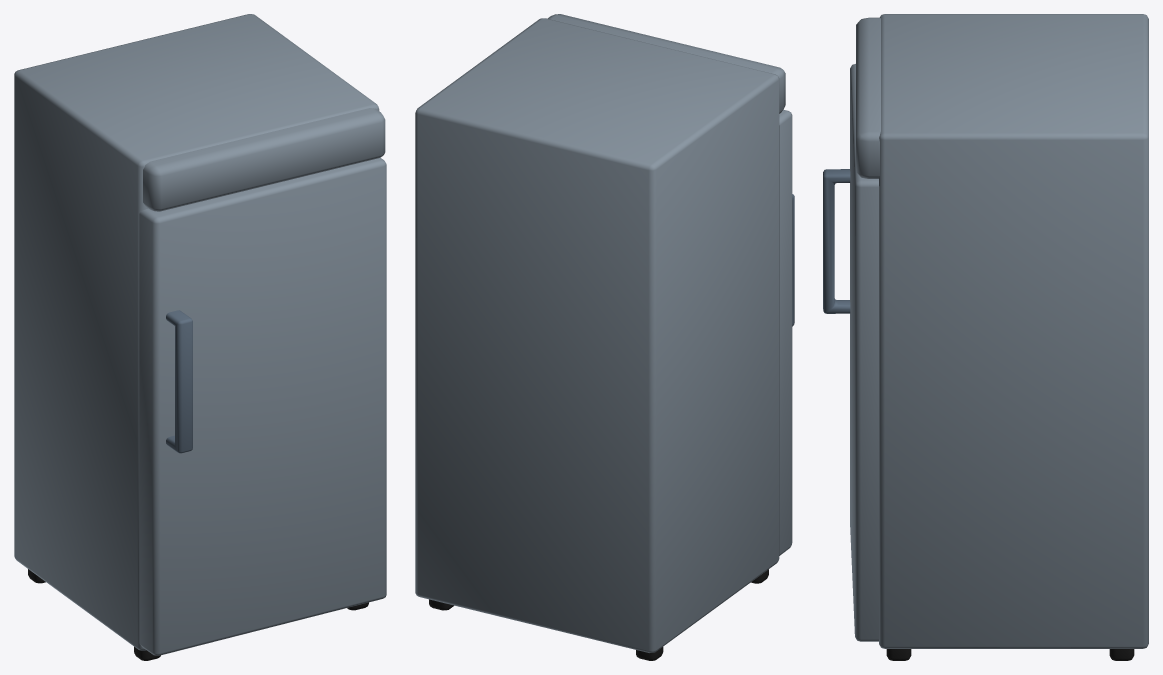
Rendered from Refrigerator-1.fbx.
The picture shows the model from 3 angles, left to right: view 1: azimuth 30°, elevation 25°; view 2: azimuth 150°, elevation 25°; view 3: azimuth 270°, elevation 25°; orthographic projection. The views are drawn at different scales.
Parts seen in each view (by area): view 1: Refrigerator-1.001, Refrigerator-1; view 2: Refrigerator-1, Refrigerator-1.001; view 3: Refrigerator-1, Refrigerator-1.001.
Part boxes in pixels (x1=…): Refrigerator-1.001: x1=139, y1=158, x2=386, y2=655; Refrigerator-1: x1=14, y1=14, x2=385, y2=660; Refrigerator-1: x1=415, y1=14, x2=785, y2=660; Refrigerator-1.001: x1=779, y1=109, x2=794, y2=555; Refrigerator-1: x1=856, y1=14, x2=1148, y2=660; Refrigerator-1.001: x1=823, y1=64, x2=879, y2=641.
Bounding box in the file's own units: 1 × 2 × 1.11.
